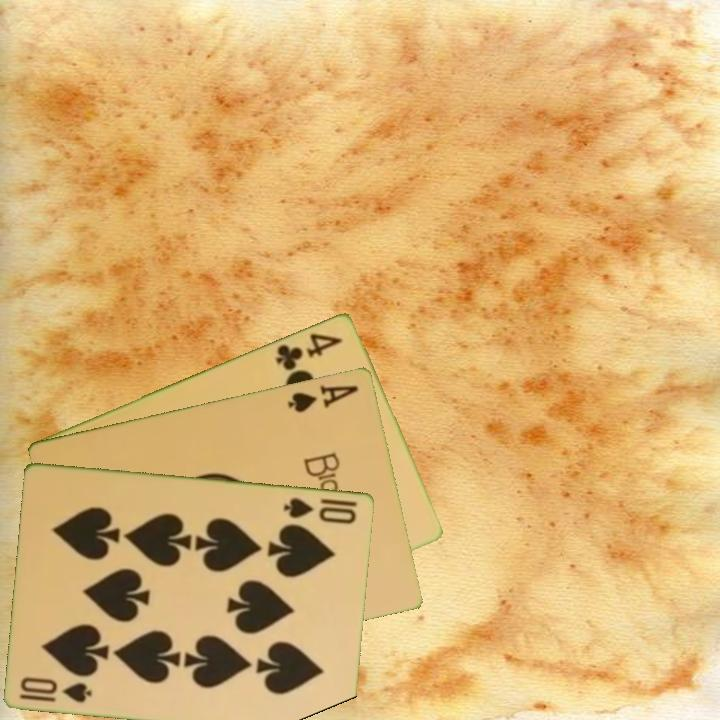10s: (280, 493, 359, 527), (16, 673, 95, 705)
4c: (272, 329, 346, 373)
As: (284, 381, 362, 415)
